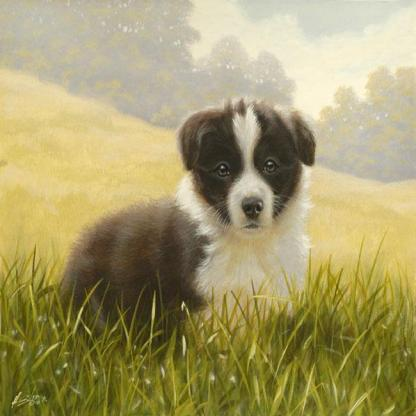Border_collie: (55, 90, 319, 344)
